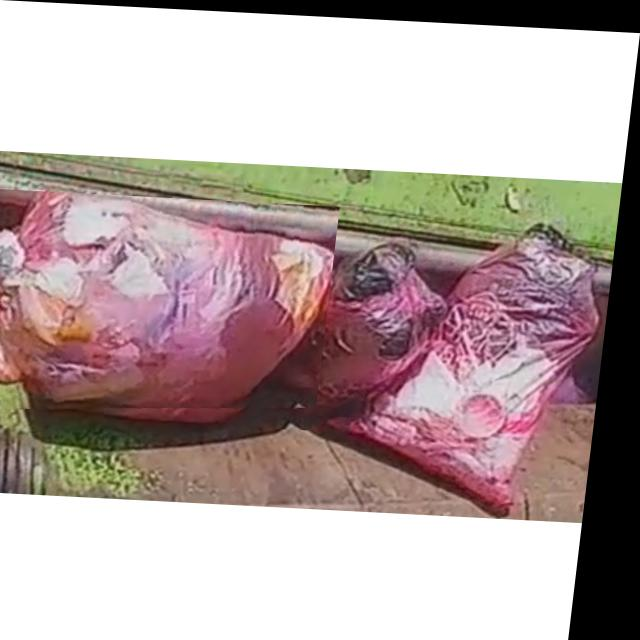other_trashbag: (0, 192, 339, 410)
